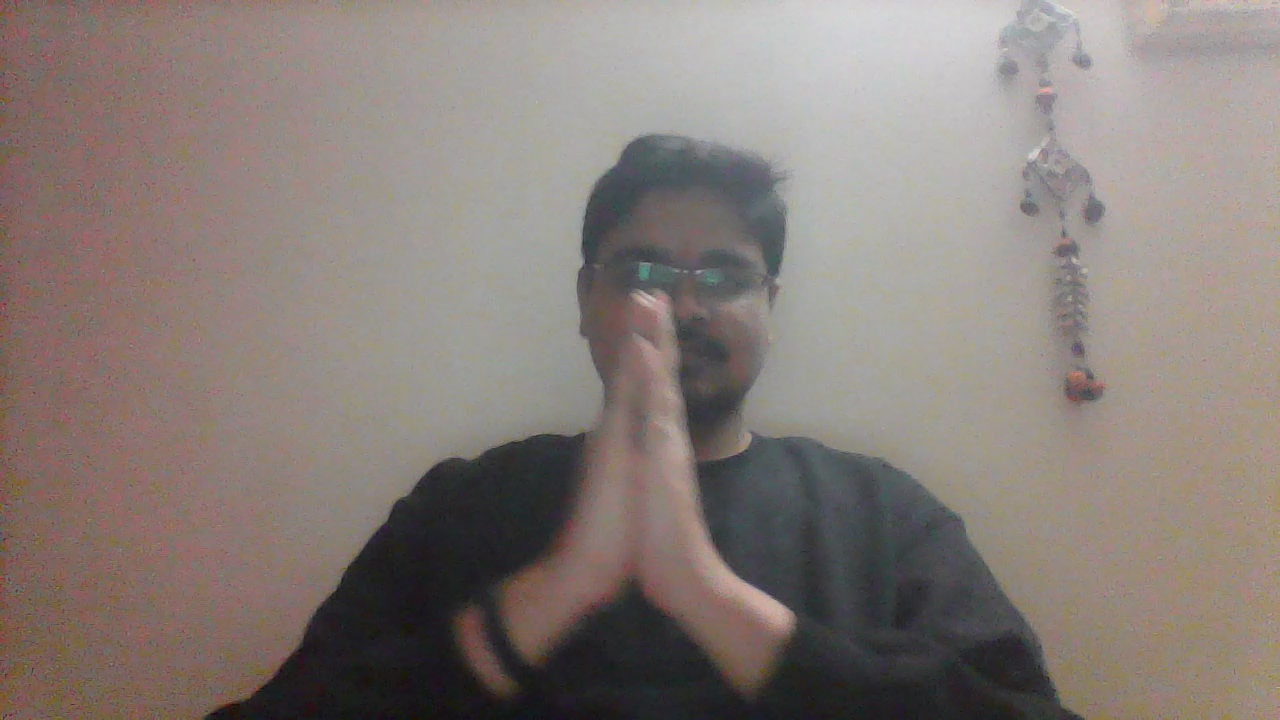Namaste: (553, 288, 722, 638)
